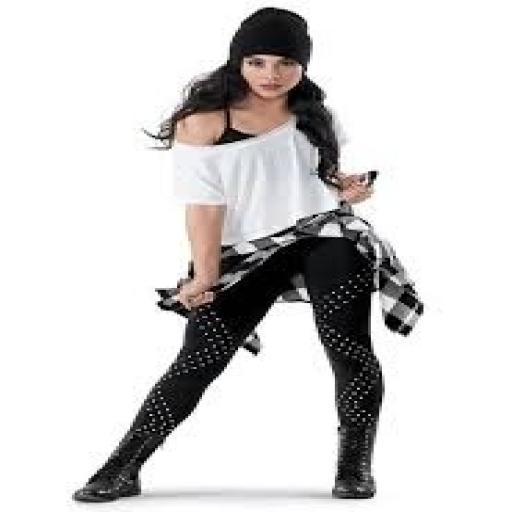dancing: (69, 6, 426, 504)
